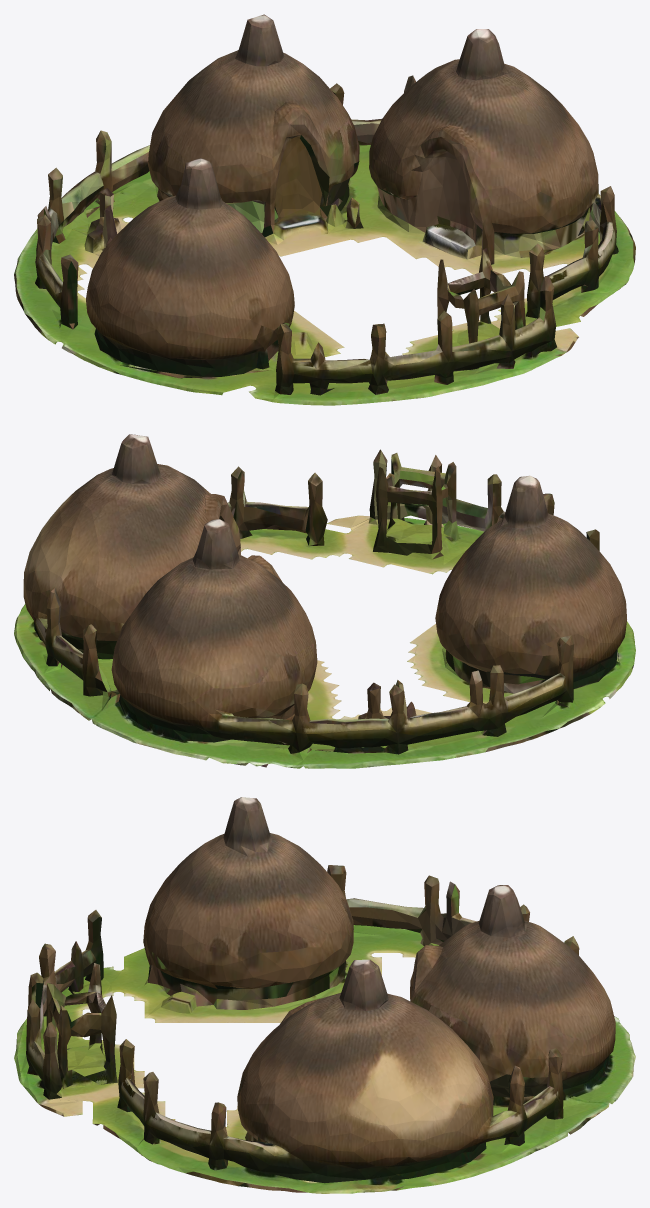
The model's file is mapuches_lof.glb.
3 renders of one model, top to bottom at view 1: azimuth 30°, elevation 25°; view 2: azimuth 150°, elevation 25°; view 3: azimuth 270°, elevation 25°, orthographic. The views are drawn at different scales.
Visible parts, largest first — view 1: geometry_0; view 2: geometry_0; view 3: geometry_0.
Part boxes in pixels (box(x1,y1,x2,y2)): geometry_0: box(14, 14, 635, 405); geometry_0: box(14, 434, 635, 768); geometry_0: box(14, 797, 635, 1193).
Bounding box in the file's own units: 2.4 × 0.7534 × 2.32.
1 material, 1 textured.
